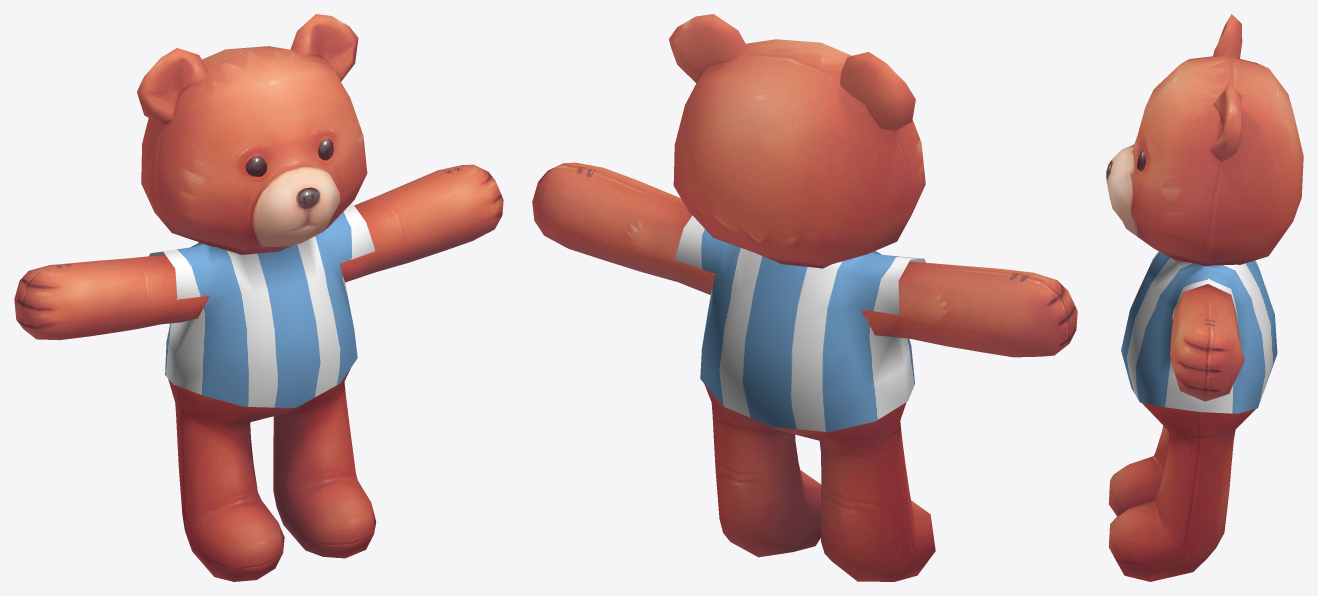
Rendered from OsitoArgentino.glb.
3 views of the same model, side by side, from view 1: azimuth 30°, elevation 25°; view 2: azimuth 150°, elevation 25°; view 3: azimuth 270°, elevation 25° (orthographic). The views are drawn at different scales.
Parts seen in each view (by area): view 1: Osito, Argentina; view 2: Osito, Argentina; view 3: Osito, Argentina.
Boxes of the visible parts, left/top/right/bottom form: Osito: left=14, top=14, right=503, bottom=581; Argentina: left=149, top=204, right=374, bottom=407; Osito: left=532, top=14, right=1077, bottom=581; Argentina: left=675, top=215, right=925, bottom=432; Osito: left=1106, top=14, right=1303, bottom=581; Argentina: left=1121, top=251, right=1277, bottom=413.
Size of the model in its own units: 2.11 by 2.15 by 0.7668.
2 materials, 2 textured.
